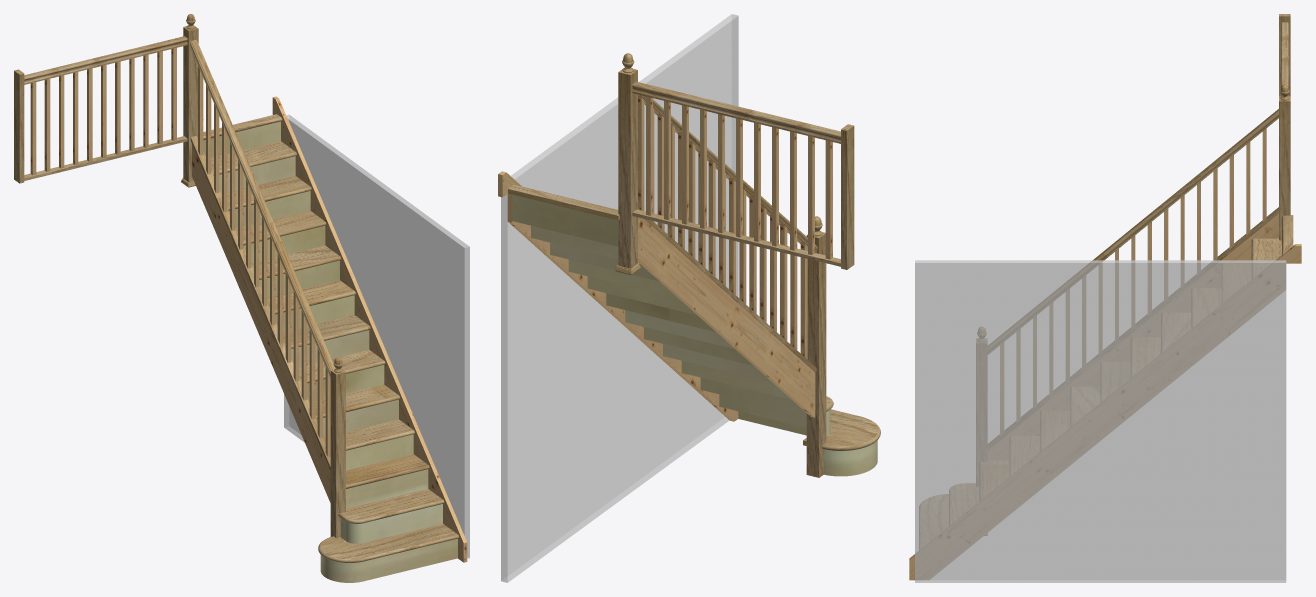
3 renders of one model, left to right at view 1: azimuth 30°, elevation 25°; view 2: azimuth 150°, elevation 25°; view 3: azimuth 270°, elevation 25°, orthographic. The views are drawn at different scales.
Visible parts, largest first — view 1: _x0023_BEGIN_WALLwhite-paint.jpg1110.3, _x0023_RISERBirch.jpg1111, _x0023_TREADbig-oaktex.jpg1111, _x0023_BALUSTERtk-whitewood.jpg1111, _x0023_STRINGtk-whitewood.jpg1111 (×2), _x0023_POSTbig-oaktex.jpg1111, _x0023_HANDRAILbig-oaktex.jpg1111, _x0023_BOTTOMRAILbig-oaktex.jpg1111; view 2: _x0023_BEGIN_WALLwhite-paint.jpg1110.3, _x0023_BALUSTERtk-whitewood.jpg1111, _x0023_RISERBirch.jpg1111, _x0023_STRINGtk-whitewood.jpg1111 (×2), _x0023_POSTbig-oaktex.jpg1111, _x0023_HANDRAILbig-oaktex.jpg1111, _x0023_TREADbig-oaktex.jpg1111, _x0023_BOTTOMRAILbig-oaktex.jpg1111; view 3: _x0023_BEGIN_WALLwhite-paint.jpg1110.3, _x0023_STRINGtk-whitewood.jpg1111 (×2), _x0023_TREADbig-oaktex.jpg1111, _x0023_BALUSTERtk-whitewood.jpg1111, _x0023_POSTbig-oaktex.jpg1111, _x0023_HANDRAILbig-oaktex.jpg1111, _x0023_BOTTOMRAILbig-oaktex.jpg1111.
Part boxes in pixels (left/top/right/bottom): _x0023_BEGIN_WALLwhite-paint.jpg1110.3: left=284, top=114, right=469, bottom=558; _x0023_RISERBirch.jpg1111: left=203, top=121, right=457, bottom=582; _x0023_TREADbig-oaktex.jpg1111: left=203, top=114, right=458, bottom=562; _x0023_BALUSTERtk-whitewood.jpg1111: left=30, top=47, right=330, bottom=457; _x0023_STRINGtk-whitewood.jpg1111 (×2): left=192, top=96, right=467, bottom=562; _x0023_POSTbig-oaktex.jpg1111: left=14, top=14, right=345, bottom=537; _x0023_HANDRAILbig-oaktex.jpg1111: left=24, top=36, right=335, bottom=377; _x0023_BOTTOMRAILbig-oaktex.jpg1111: left=24, top=136, right=330, bottom=470; _x0023_BEGIN_WALLwhite-paint.jpg1110.3: left=501, top=14, right=738, bottom=582; _x0023_BALUSTERtk-whitewood.jpg1111: left=638, top=95, right=832, bottom=359; _x0023_RISERBirch.jpg1111: left=511, top=194, right=877, bottom=476; _x0023_STRINGtk-whitewood.jpg1111 (×2): left=498, top=171, right=815, bottom=421; _x0023_POSTbig-oaktex.jpg1111: left=615, top=53, right=854, bottom=477; _x0023_HANDRAILbig-oaktex.jpg1111: left=632, top=81, right=840, bottom=253; _x0023_TREADbig-oaktex.jpg1111: left=508, top=184, right=880, bottom=450; _x0023_BOTTOMRAILbig-oaktex.jpg1111: left=632, top=208, right=840, bottom=372; _x0023_BEGIN_WALLwhite-paint.jpg1110.3: left=915, top=260, right=1286, bottom=582; _x0023_STRINGtk-whitewood.jpg1111 (×2): left=909, top=214, right=1301, bottom=580; _x0023_TREADbig-oaktex.jpg1111: left=919, top=215, right=1293, bottom=549; _x0023_BALUSTERtk-whitewood.jpg1111: left=1000, top=128, right=1266, bottom=435; _x0023_POSTbig-oaktex.jpg1111: left=976, top=14, right=1290, bottom=535; _x0023_HANDRAILbig-oaktex.jpg1111: left=988, top=22, right=1288, bottom=354; _x0023_BOTTOMRAILbig-oaktex.jpg1111: left=988, top=207, right=1278, bottom=449.
Bounding box in the file's own units: 2.49 × 3.81 × 3.02.
8 materials, 8 textured.
